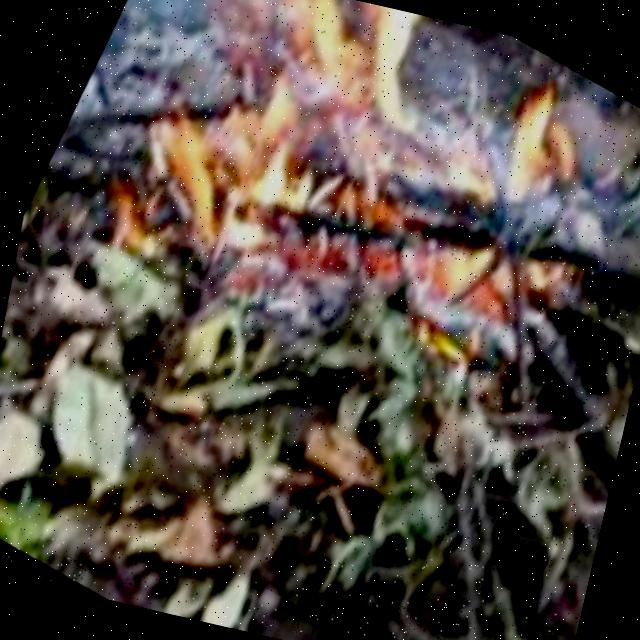fire: (66, 0, 640, 436)
